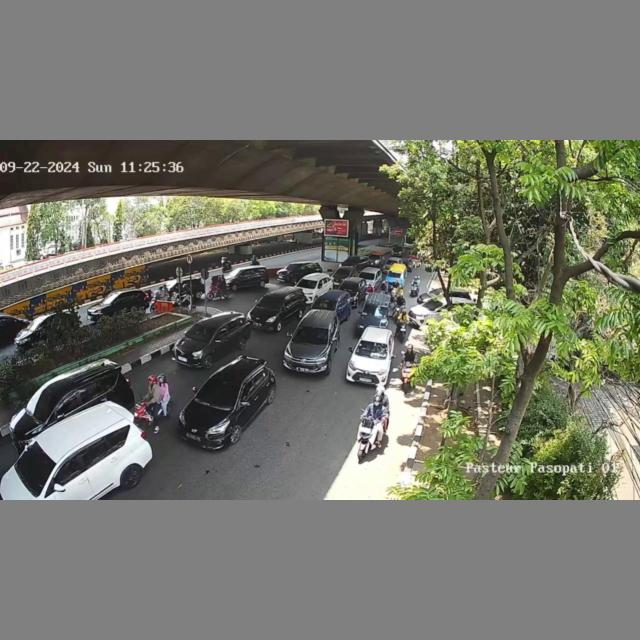windshield: (18, 442, 57, 495), (193, 379, 242, 409), (24, 387, 59, 421), (292, 323, 331, 345), (356, 340, 388, 359), (187, 322, 215, 343), (259, 294, 286, 309), (363, 303, 389, 318), (313, 297, 336, 310), (295, 279, 317, 288), (338, 282, 358, 291), (387, 270, 404, 278), (359, 272, 375, 279), (336, 268, 352, 275)
